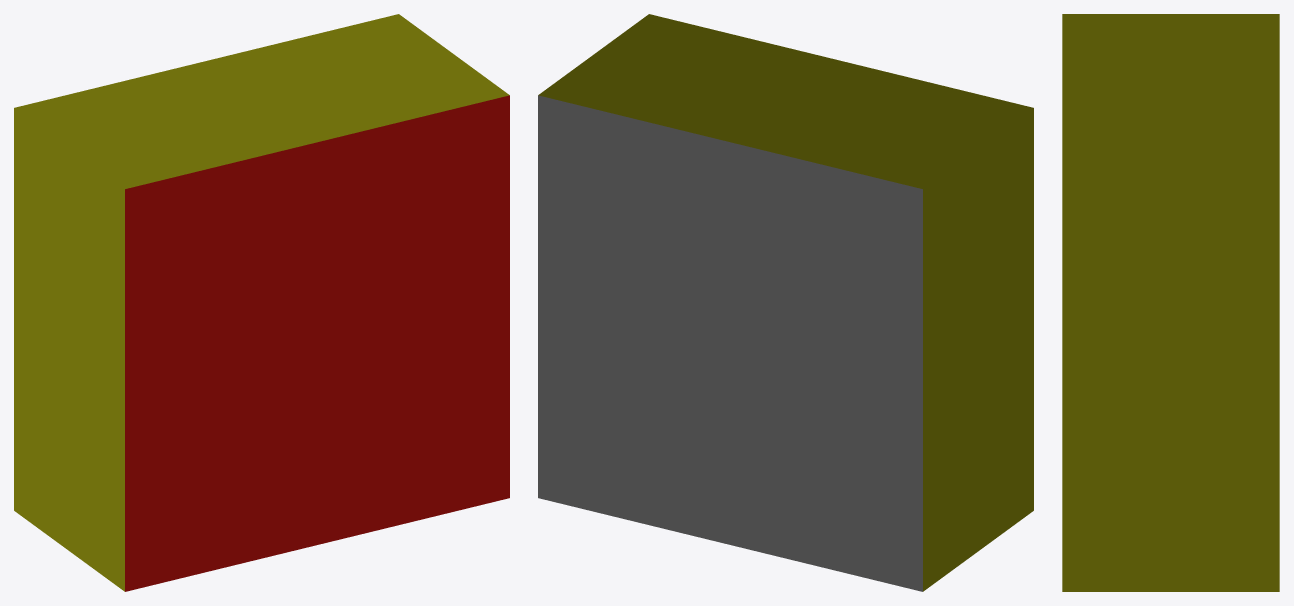
The model's file is idf.obj.
3 renders of one model, left to right at view 1: azimuth 30°, elevation 25°; view 2: azimuth 150°, elevation 25°; view 3: azimuth 270°, elevation 25°, orthographic. The views are drawn at different scales.
Bounding box in the file's own units: 6.1 × 6.1 × 3.05.
